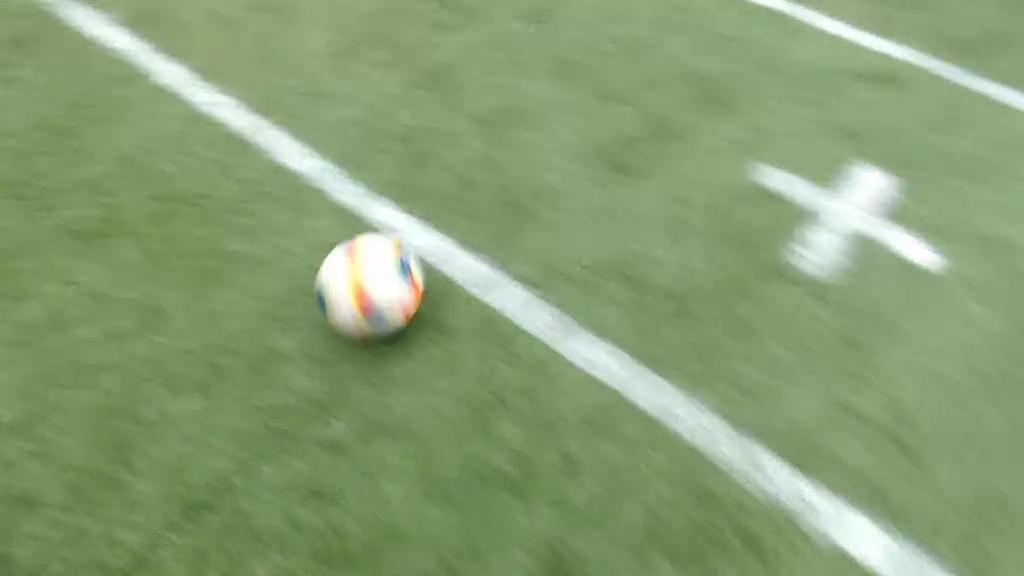ball: (318, 232, 424, 342)
